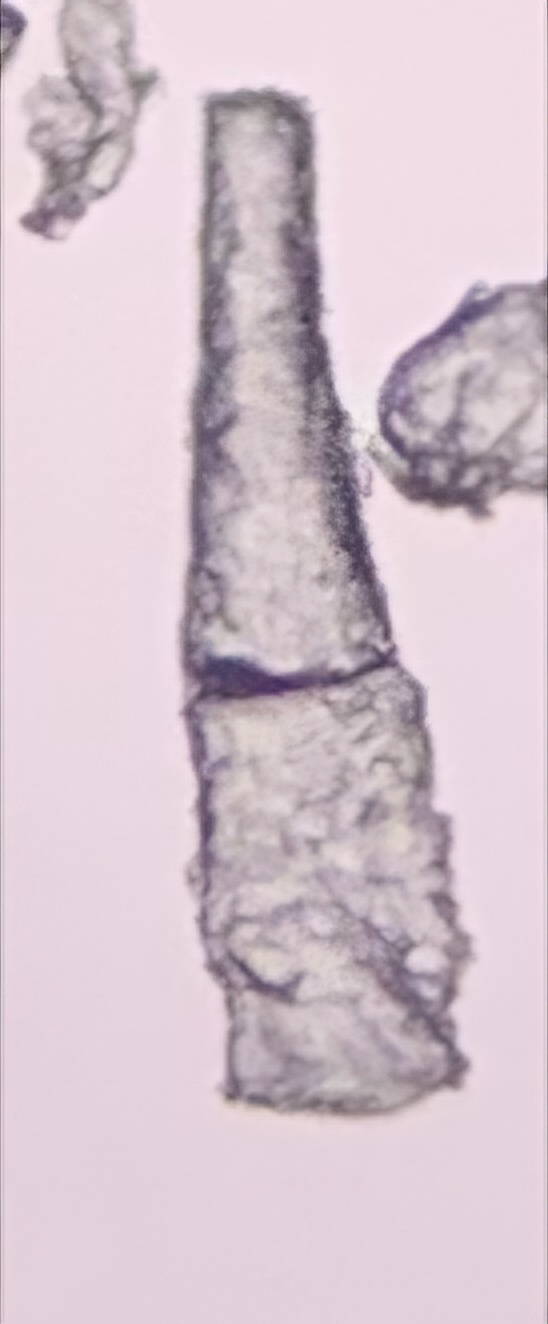microplastic: (172, 86, 474, 1119), (365, 274, 548, 523), (19, 1, 159, 242), (1, 1, 28, 70)
